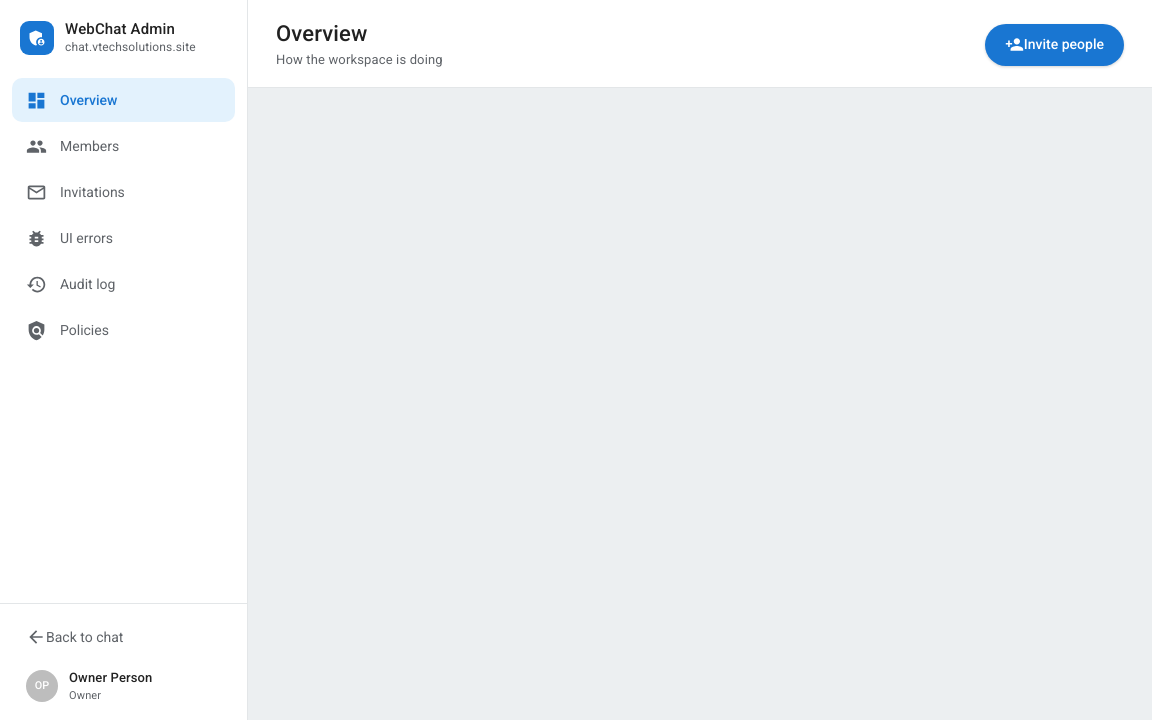
Scenario: the UI errors section › reads the list with the session token
Click the button "UI errors". click: (124,238)
box: [12,216,235,260]
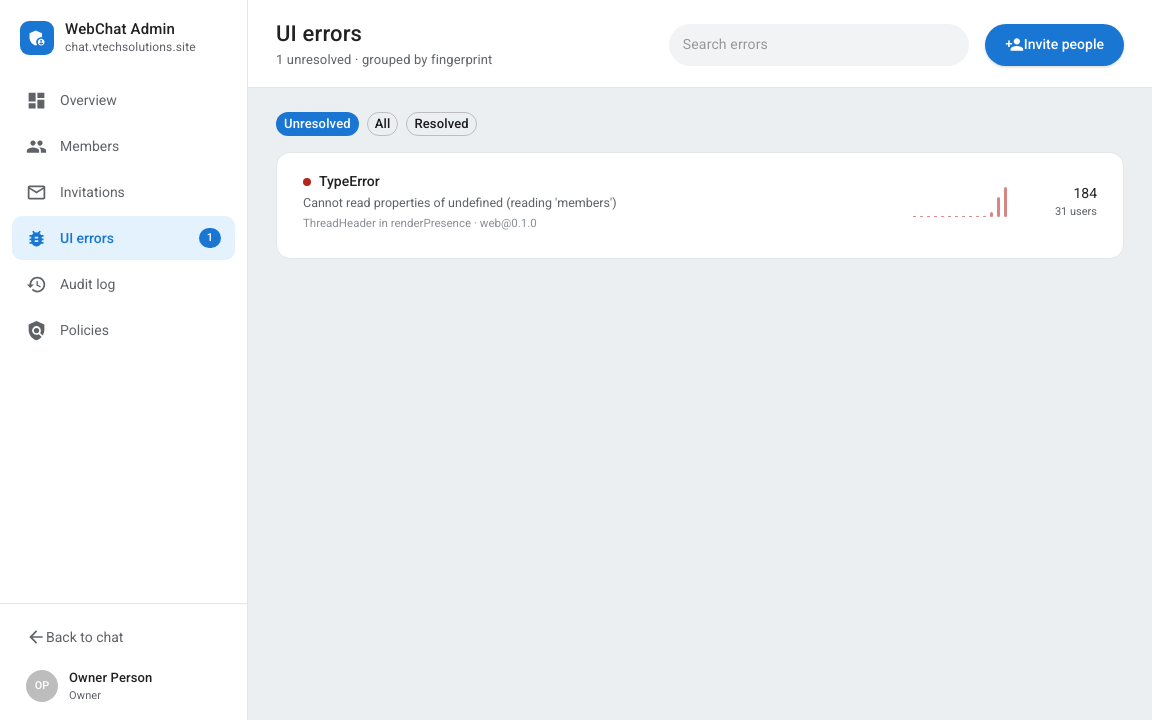
Now the text "TypeError" is shown, box [319,171,380,192]
